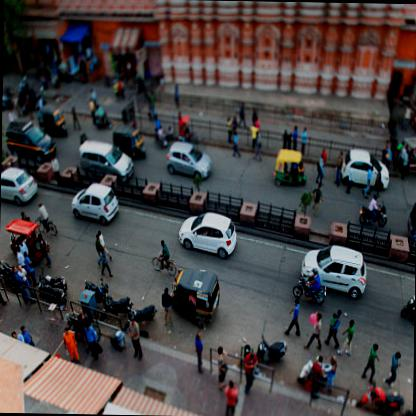car: (301, 244, 366, 299), (178, 213, 235, 258), (78, 138, 134, 178), (70, 181, 120, 224), (340, 150, 390, 190), (166, 142, 212, 180), (0, 165, 38, 206)
motorcycle: (292, 265, 326, 303), (151, 240, 178, 276), (359, 195, 387, 226), (34, 204, 60, 236), (400, 286, 414, 322)
